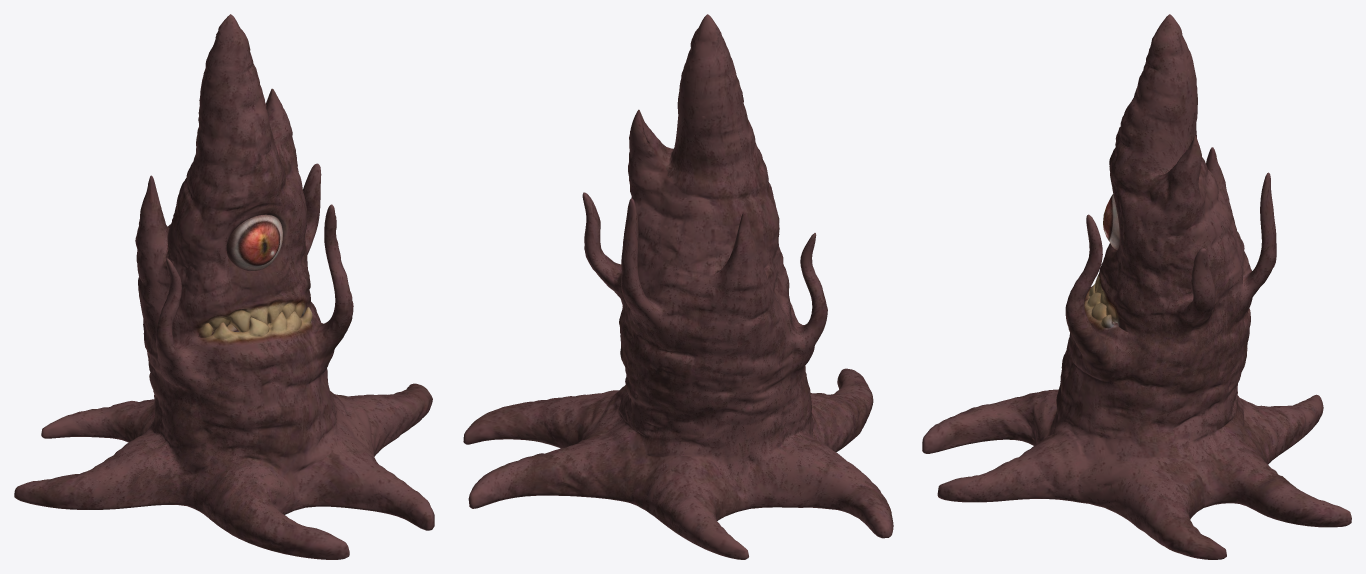
File: MZ4250 - Piercer.glb
3 renders of one model, left to right at view 1: azimuth 30°, elevation 25°; view 2: azimuth 150°, elevation 25°; view 3: azimuth 270°, elevation 25°, orthographic. The views are drawn at different scales.
Visible parts, largest first — view 1: default; view 2: default; view 3: default.
Boxes of the visible parts, left/top/right/bottom form: default: left=14, top=14, right=434, bottom=559; default: left=463, top=14, right=893, bottom=559; default: left=922, top=14, right=1351, bottom=559.
Bounding box in the file's own units: 1.24 × 1.3 × 1.14.
1 material, 1 textured.
